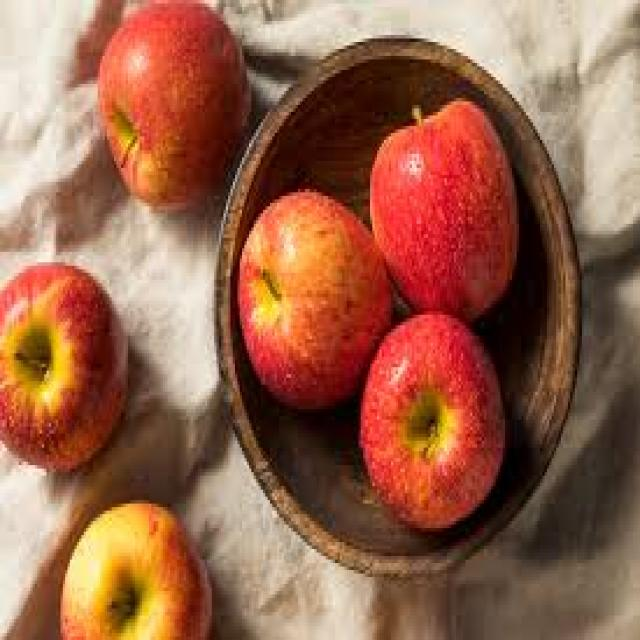apple: (86, 0, 261, 210)
